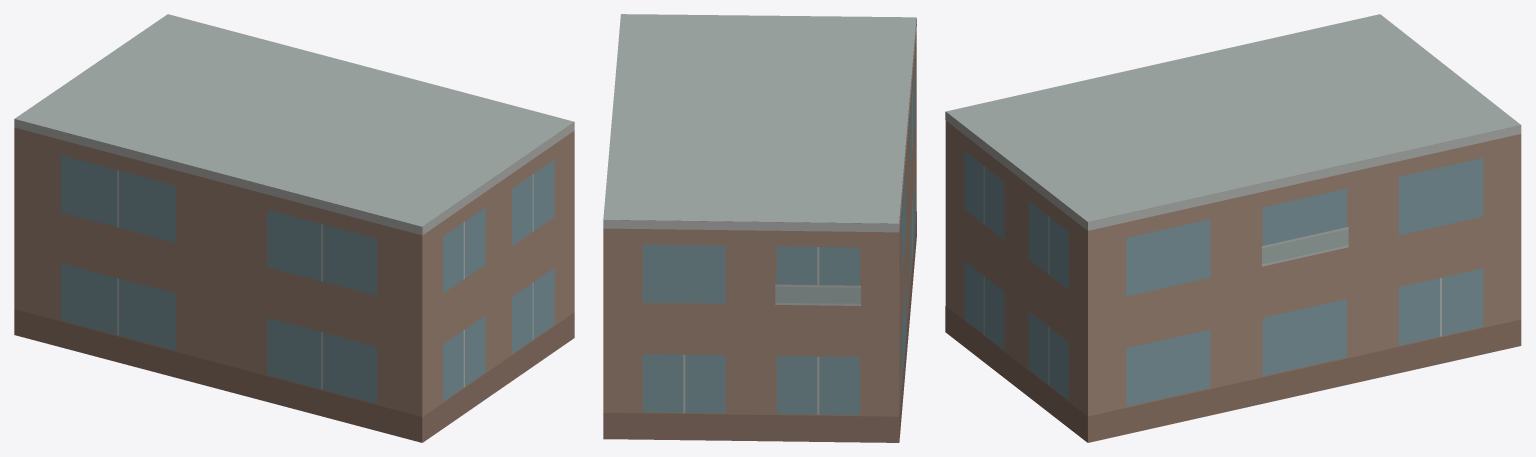
File: survey-upis-32707308.glb
3 renders of one model, left to right at view 1: azimuth 30°, elevation 25°; view 2: azimuth 150°, elevation 25°; view 3: azimuth 270°, elevation 25°, orthographic. The views are drawn at different scales.
Parts seen in each view (by area): view 1: survey-upis-32707308.tmp; view 2: survey-upis-32707308.tmp; view 3: survey-upis-32707308.tmp.
Part boxes in pixels (x1,y1,x2,y2): survey-upis-32707308.tmp: (14, 14, 574, 442); survey-upis-32707308.tmp: (603, 14, 916, 442); survey-upis-32707308.tmp: (945, 14, 1521, 442).
Size of the model in its own units: 12.34 by 6.1 by 14.42.
